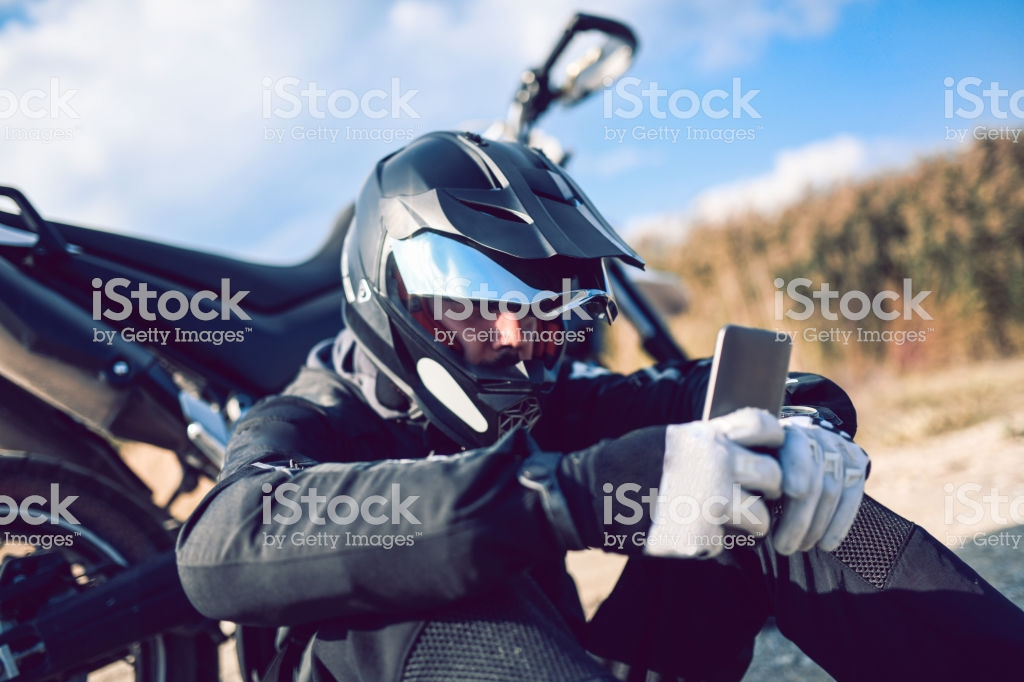helmet: (337, 127, 608, 438)
